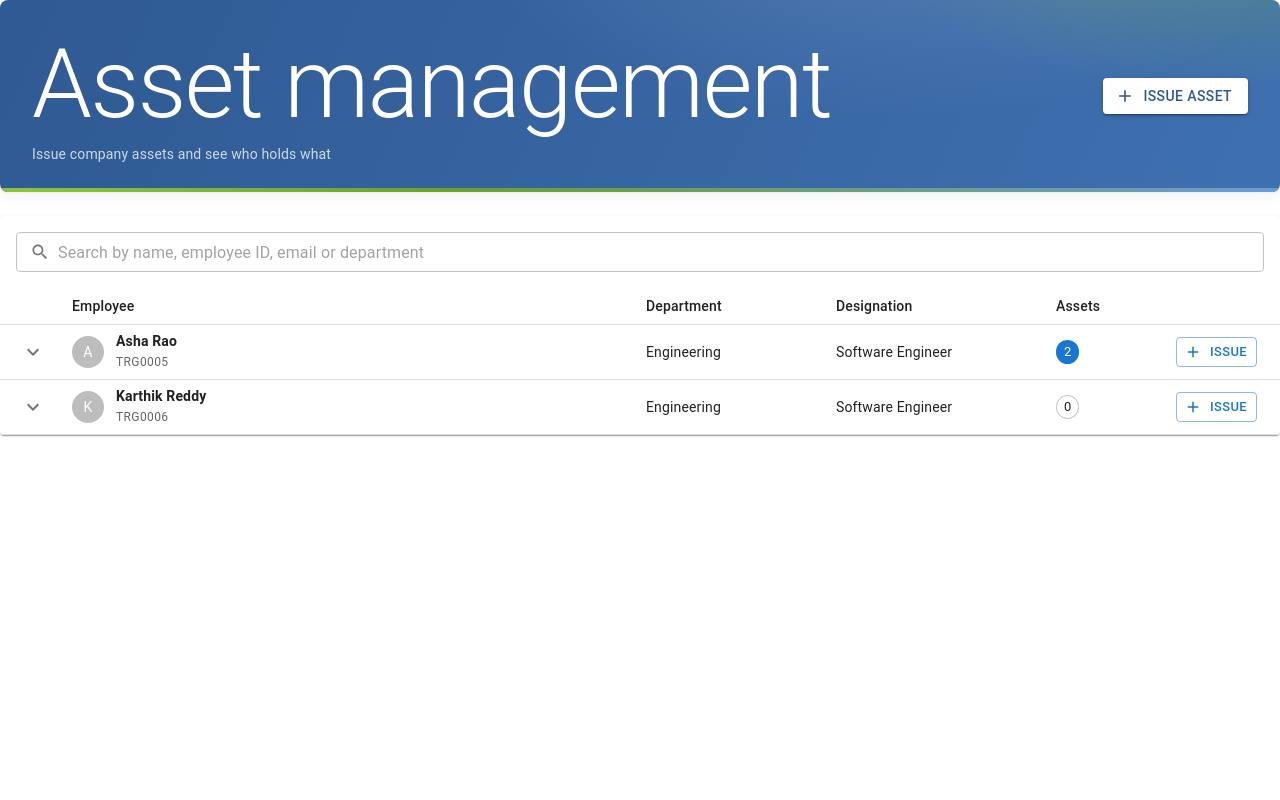
Test case: AssetManagementPage › opens a person's assets from their row
The width and height of the screenshot is (1280, 800).
Click the text "Asha Rao". click: [146, 341]
box: x1=116 y1=331 x2=177 y2=351
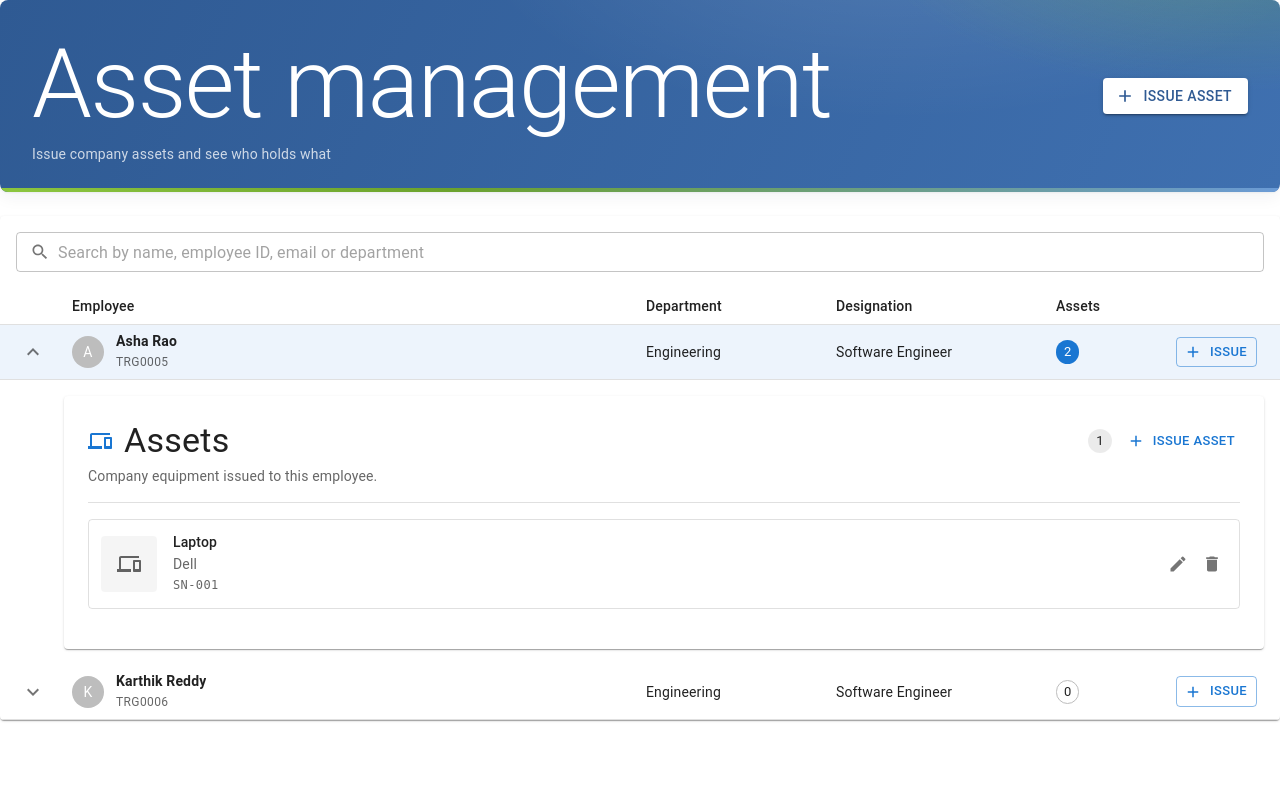
Check: the heading "Laptop" is shown, box x1=173 y1=534 x2=217 y2=550
